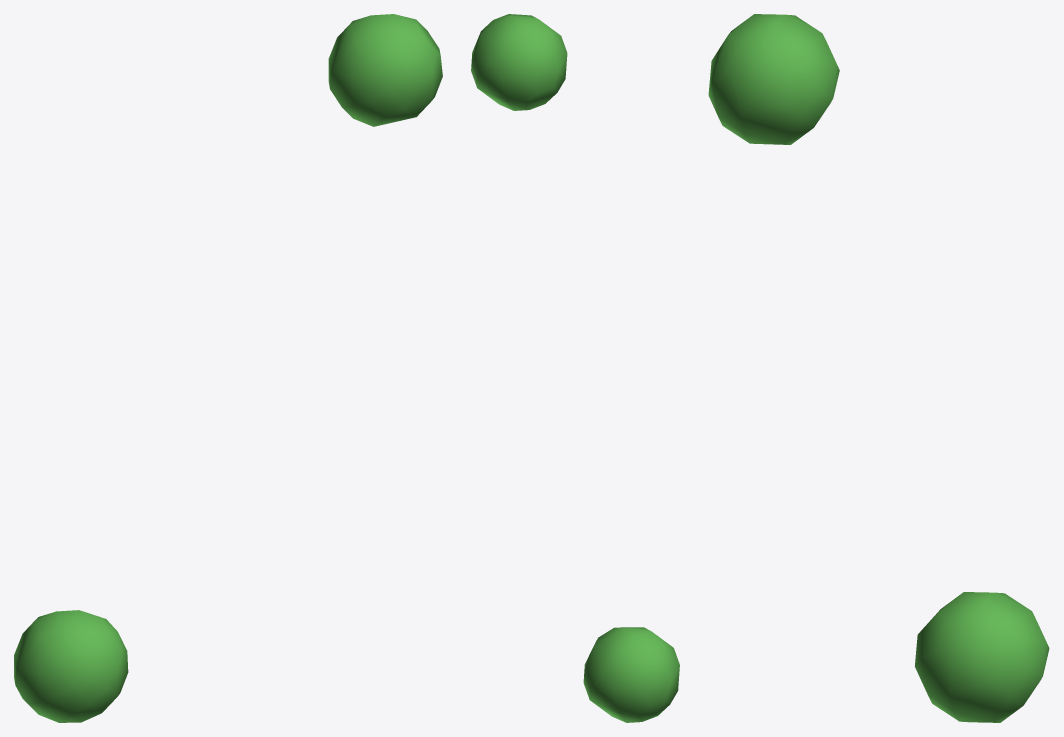
The model's file is linfatico-ileocolic-nodes.glb.
The picture shows the model from 3 angles, left to right: view 1: azimuth 30°, elevation 25°; view 2: azimuth 150°, elevation 25°; view 3: azimuth 270°, elevation 25°; orthographic projection. The views are drawn at different scales.
Parts seen in each view (by area): view 1: Ileocolic nodes; view 2: Ileocolic nodes; view 3: Ileocolic nodes.
Part boxes in pixels (x1,y1,x2,y2): Ileocolic nodes: (14, 14, 442, 722); Ileocolic nodes: (471, 14, 679, 722); Ileocolic nodes: (708, 14, 1049, 722).
Bounding box in the file's own units: 0.00826 × 0.0173 × 0.00648.
